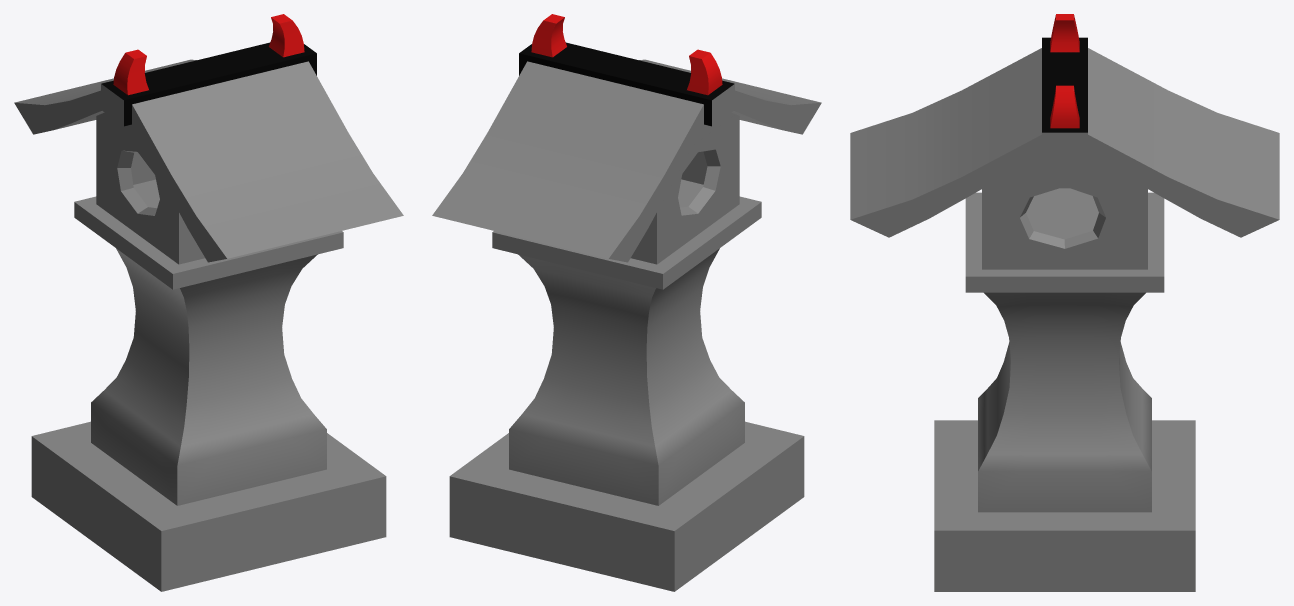
File: tourou_03.fbx
The picture shows the model from 3 angles, left to right: view 1: azimuth 30°, elevation 25°; view 2: azimuth 150°, elevation 25°; view 3: azimuth 270°, elevation 25°; orthographic projection.
Visible parts, largest first — view 1: pCube4, pCube5; view 2: pCube4, pCube5; view 3: pCube4, pCube5.
Part boxes in pixels (x1,y1,x2,y2): pCube4: (31, 112, 386, 591); pCube5: (14, 14, 403, 262); pCube4: (449, 112, 804, 591); pCube5: (432, 14, 821, 262); pCube4: (934, 155, 1195, 591); pCube5: (850, 14, 1279, 237).
Bounding box in the file's own units: 7.33 × 14.96 × 12.04.
Materials: 1 (1 with a texture image).
